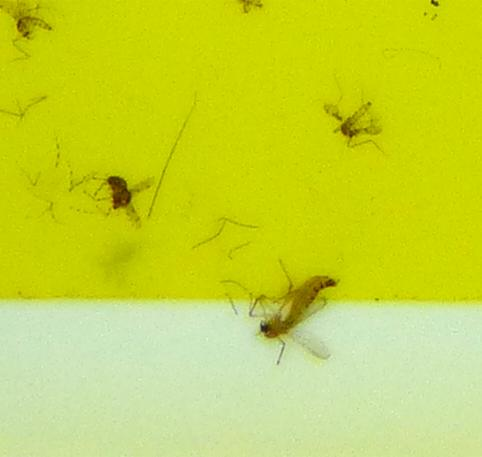Nematocera: (247, 272, 341, 357), (100, 172, 152, 224), (323, 100, 382, 144)
